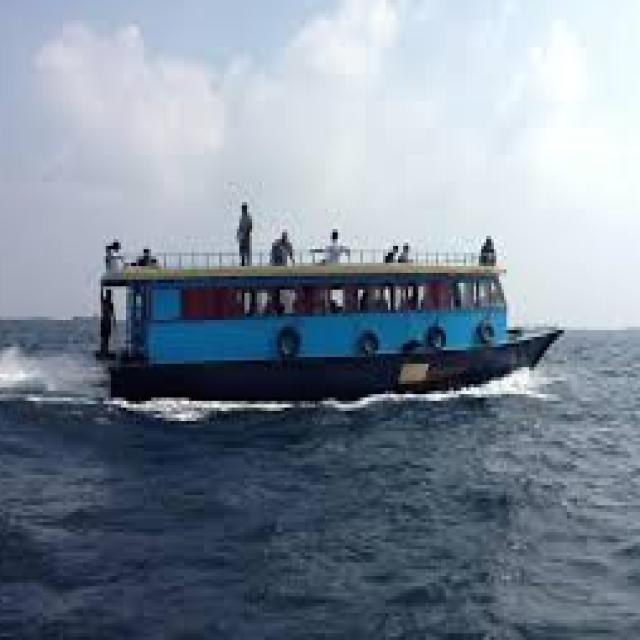fishing boat: (100, 217, 555, 403)
